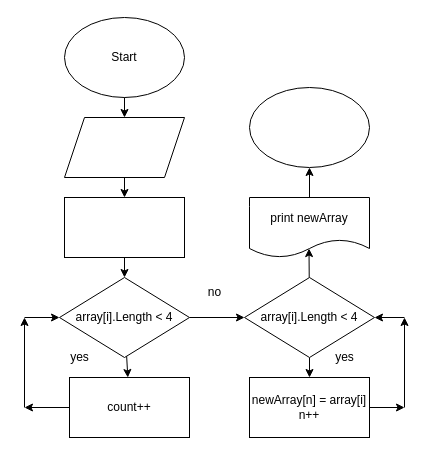
Some shapes in this 430 by 455 pixel diagram are drawn without their labels. Each missing label, with the centre of its shape:
array []: (124,147)
count = 0 n = 0: (124,227)
End: (309,127)
